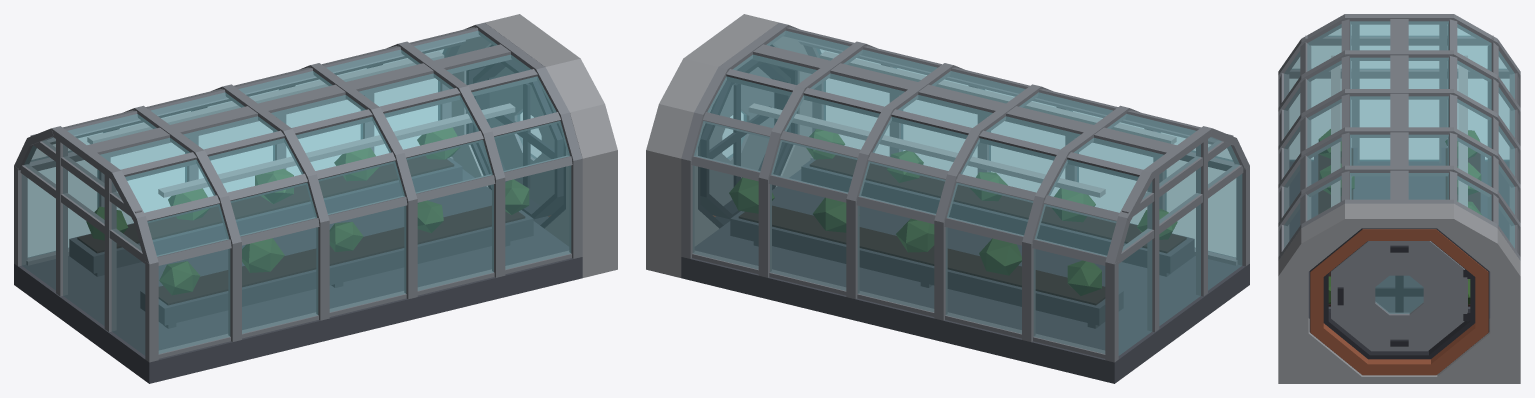
Rendered from greenhouse-module-0c233d.glb.
3 renders of one model, left to right at view 1: azimuth 30°, elevation 25°; view 2: azimuth 150°, elevation 25°; view 3: azimuth 270°, elevation 25°, orthographic. The views are drawn at different scales.
Parts seen in each view (by area): view 1: shell, glazing, hatch-plate; view 2: shell, glazing, hatch-plate; view 3: shell, glazing, hatch-plate, hatch-glass.
Boxes of the visible parts, x1=… form: shell: x1=14, y1=14, x2=617, y2=383; glazing: x1=22, y1=31, x2=570, y2=355; hatch-plate: x1=489, y1=67, x2=554, y2=205; shell: x1=646, y1=14, x2=1249, y2=383; glazing: x1=693, y1=31, x2=1241, y2=355; hatch-plate: x1=709, y1=67, x2=774, y2=205; shell: x1=1278, y1=14, x2=1520, y2=383; glazing: x1=1284, y1=21, x2=1514, y2=247; hatch-plate: x1=1331, y1=241, x2=1467, y2=351; hatch-glass: x1=1375, y1=276, x2=1423, y2=313.
Size of the model in its own units: 8 by 3 by 4.
